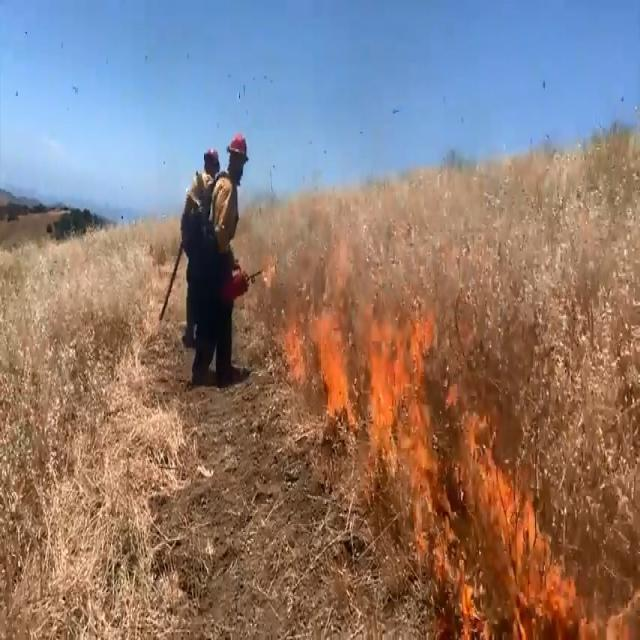Fire: (260, 244, 620, 640)
